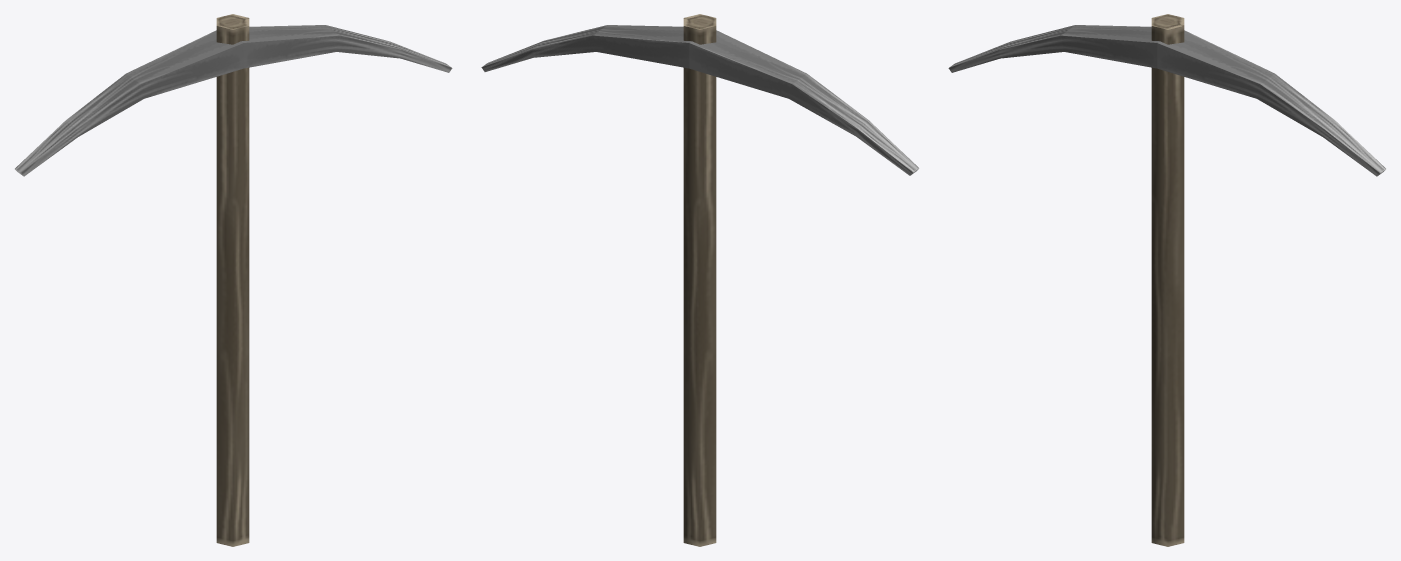
File: Pickaxe_Geo.fbx
3 views of the same model, side by side, from view 1: azimuth 30°, elevation 25°; view 2: azimuth 150°, elevation 25°; view 3: azimuth 330°, elevation 25° (orthographic).
Visible parts, largest first — view 1: Pickaxe_Geo; view 2: Pickaxe_Geo; view 3: Pickaxe_Geo.
Part boxes in pixels (left/top/right/bottom): Pickaxe_Geo: left=15, top=14, right=452, bottom=546; Pickaxe_Geo: left=481, top=14, right=919, bottom=546; Pickaxe_Geo: left=948, top=14, right=1385, bottom=546.
Size of the model in its own units: 62.17 by 71.12 by 5.33.
